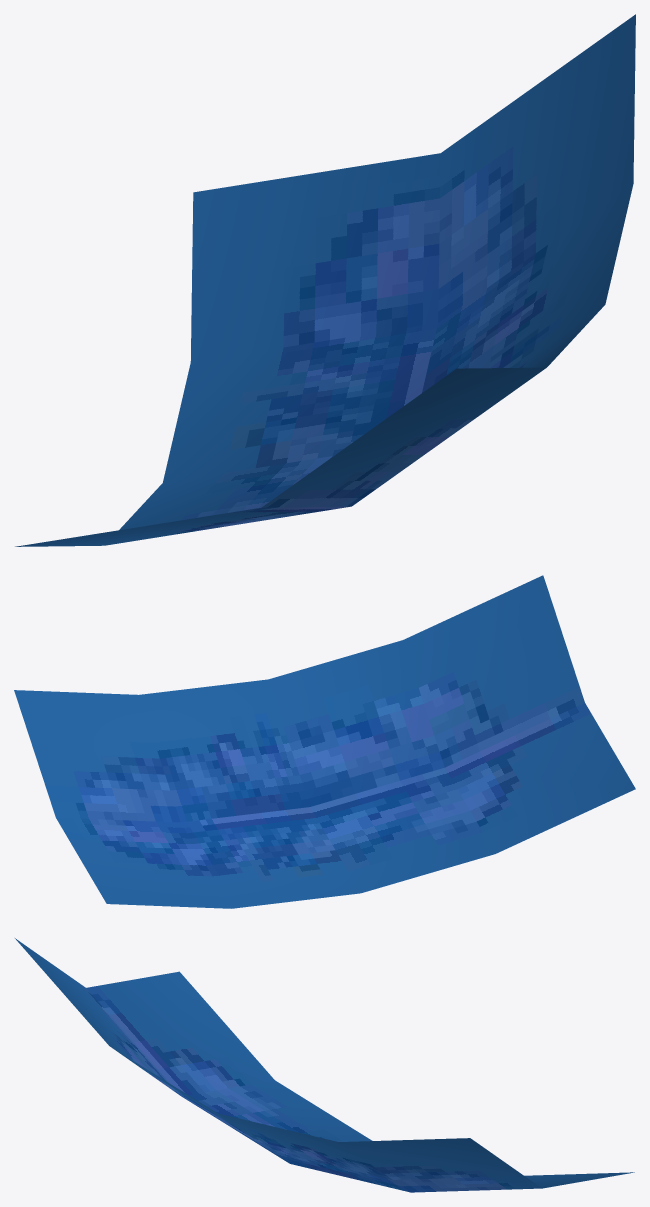
Rendered from cap_feather_blu.dae.
The picture shows the model from 3 angles, top to bottom: view 1: azimuth 30°, elevation 25°; view 2: azimuth 150°, elevation 25°; view 3: azimuth 270°, elevation 25°; orthographic projection. The views are drawn at different scales.
Parts seen in each view (by area): view 1: cap_feather_blu; view 2: cap_feather_blu; view 3: cap_feather_blu.
Part boxes in pixels (bbox=[...]): cap_feather_blu: bbox=[15, 14, 635, 546]; cap_feather_blu: bbox=[14, 575, 635, 908]; cap_feather_blu: bbox=[15, 938, 634, 1192].
Bounding box in the file's own units: 12.55 × 4.77 × 13.08.
Materials: 1 (1 with a texture image).
